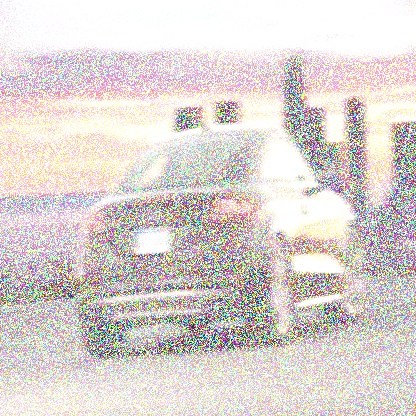Vehicle: (74, 123, 372, 362)
